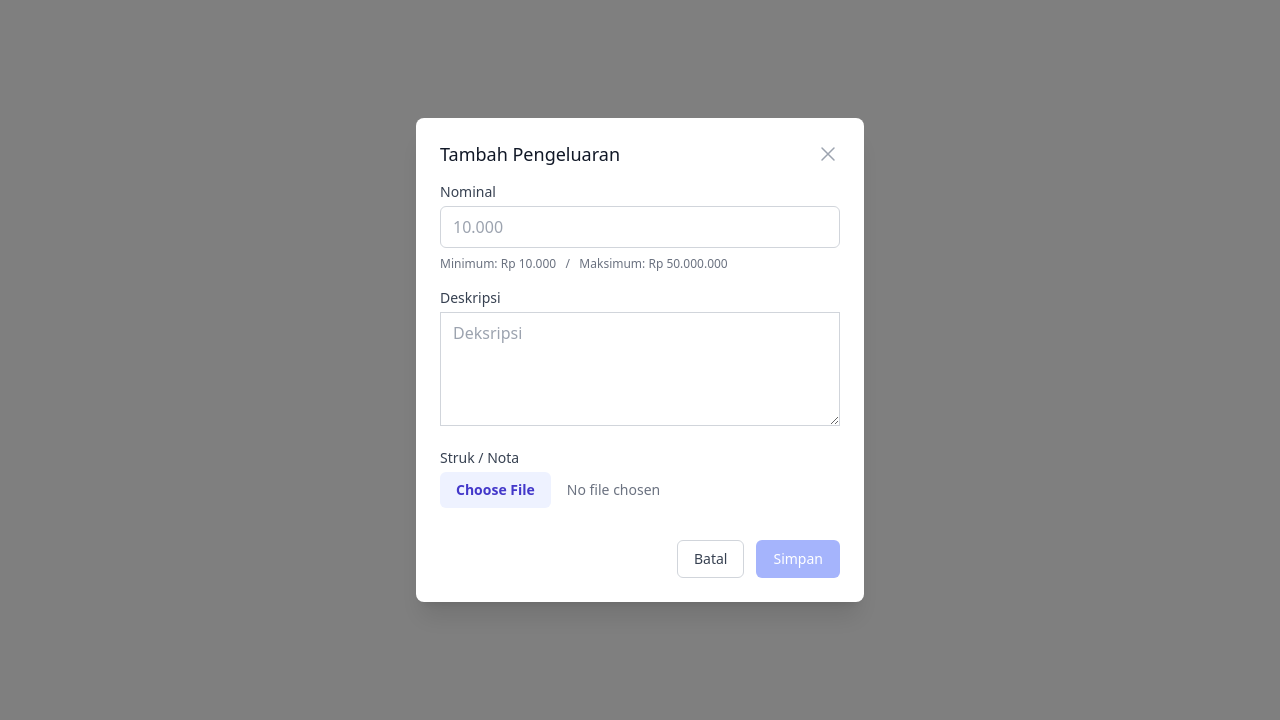
Test: AddExpenseModal › show error message when error
The width and height of the screenshot is (1280, 720).
Type "Something" into the text box with id "description" at (640, 369), box [440,312,840,426]
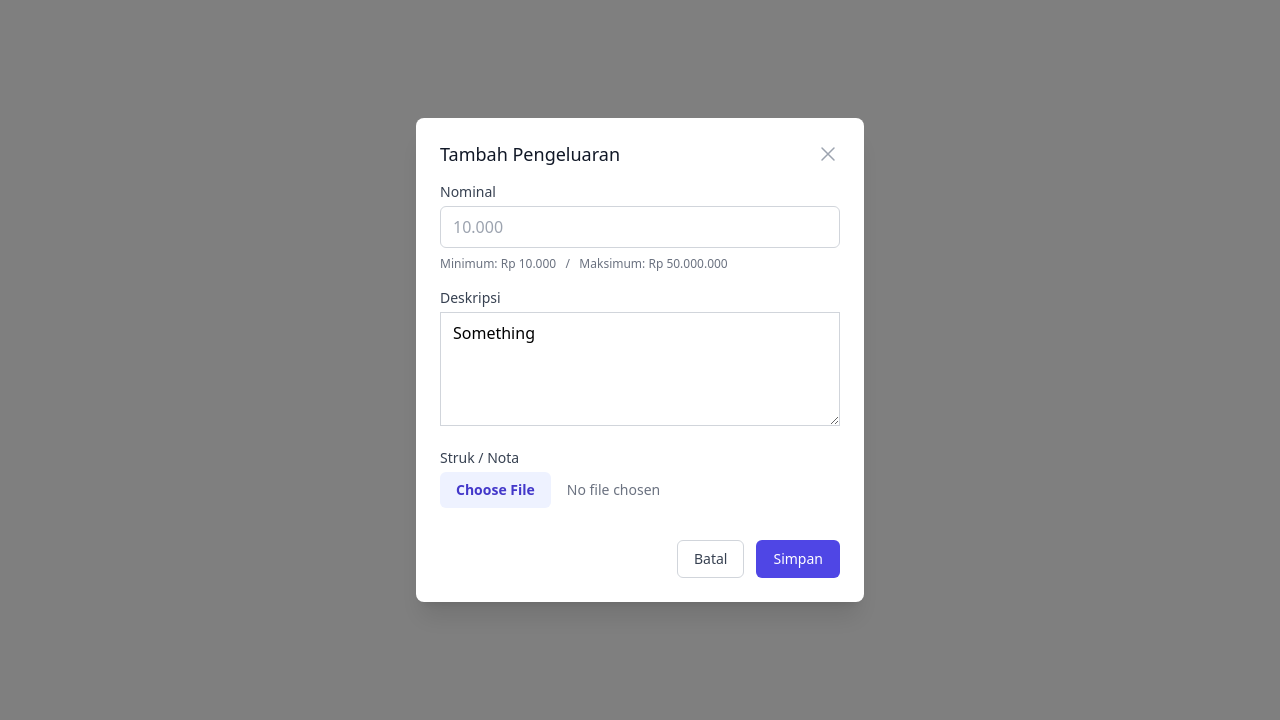
Submit the form, box [440,182,840,578]
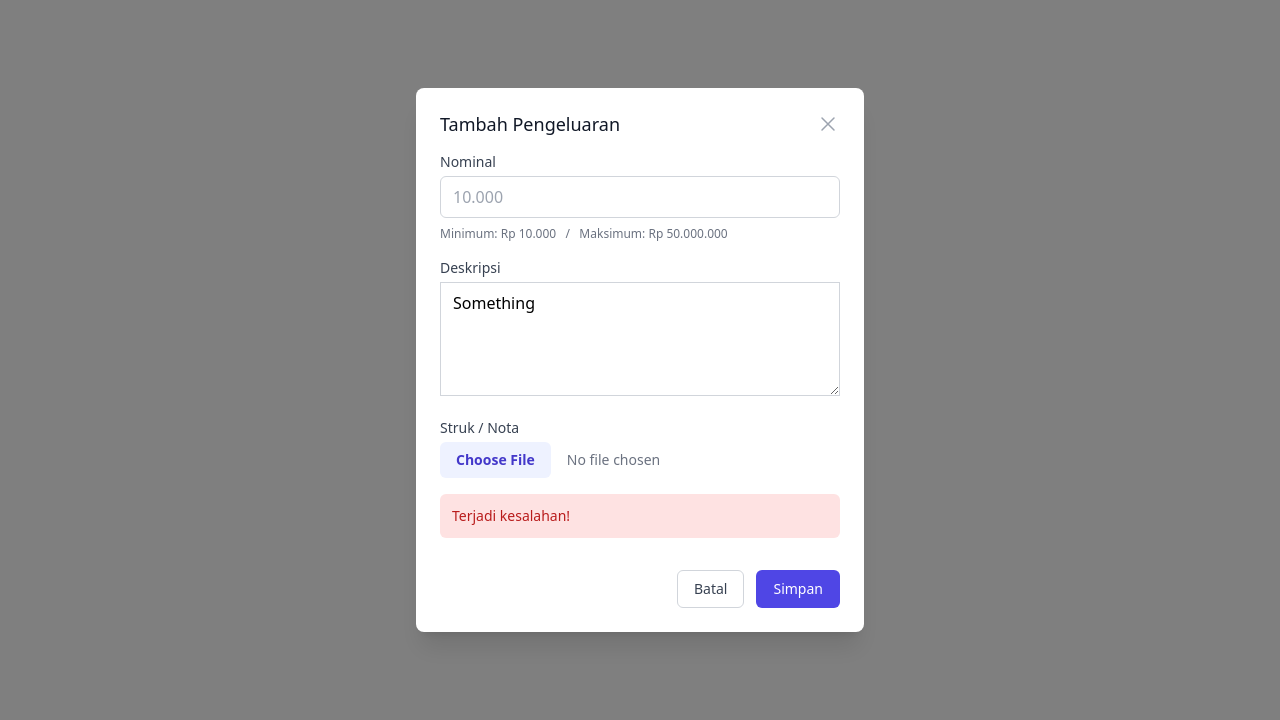
Now the text "Terjadi kesalahan!" is shown, box [440,494,840,538]
